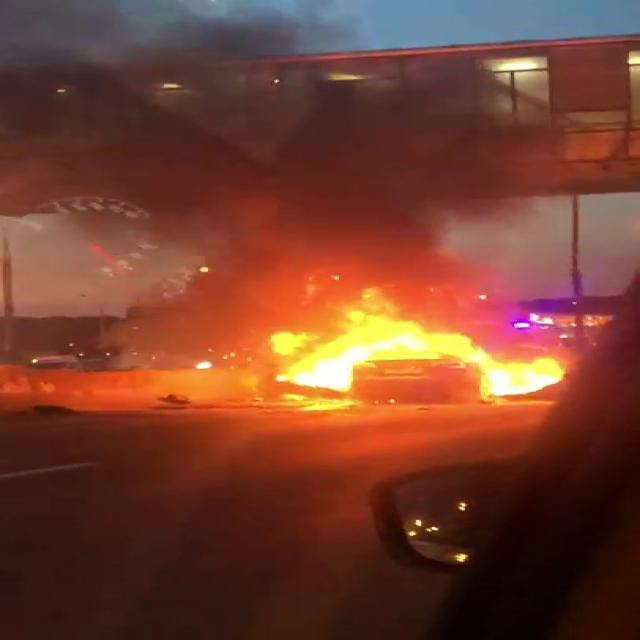Fire: (264, 266, 592, 415)
Smoke: (0, 0, 596, 292)
